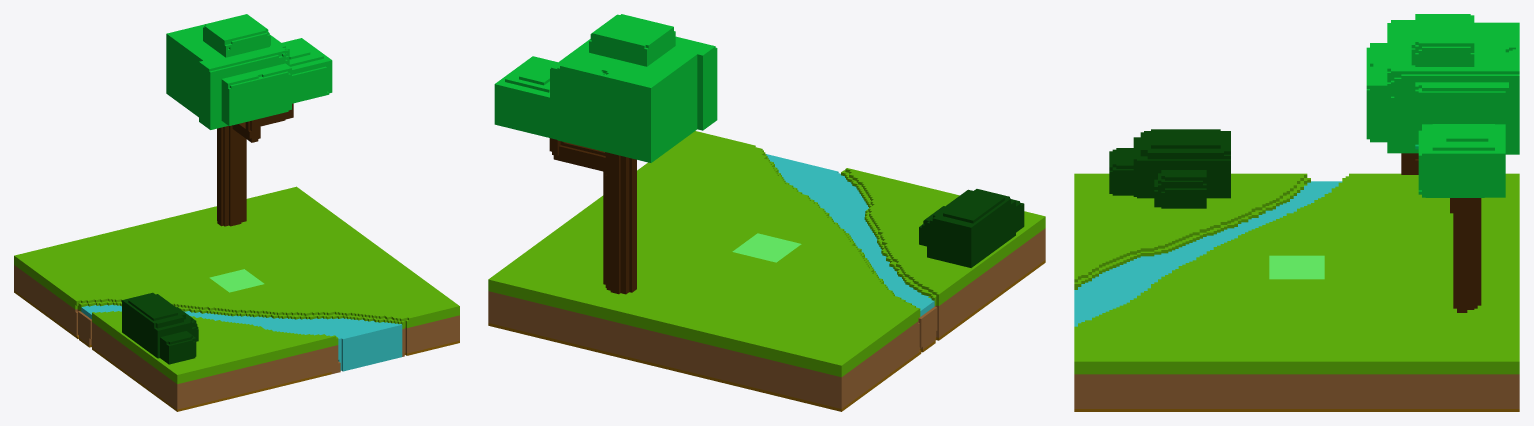
The model's file is mapa-01-0.obj.
The picture shows the model from 3 angles, left to right: view 1: azimuth 30°, elevation 25°; view 2: azimuth 150°, elevation 25°; view 3: azimuth 270°, elevation 25°; orthographic projection. The views are drawn at different scales.
Size of the model in its own units: 12.8 by 10.3 by 12.8.
1 material, 1 textured.
